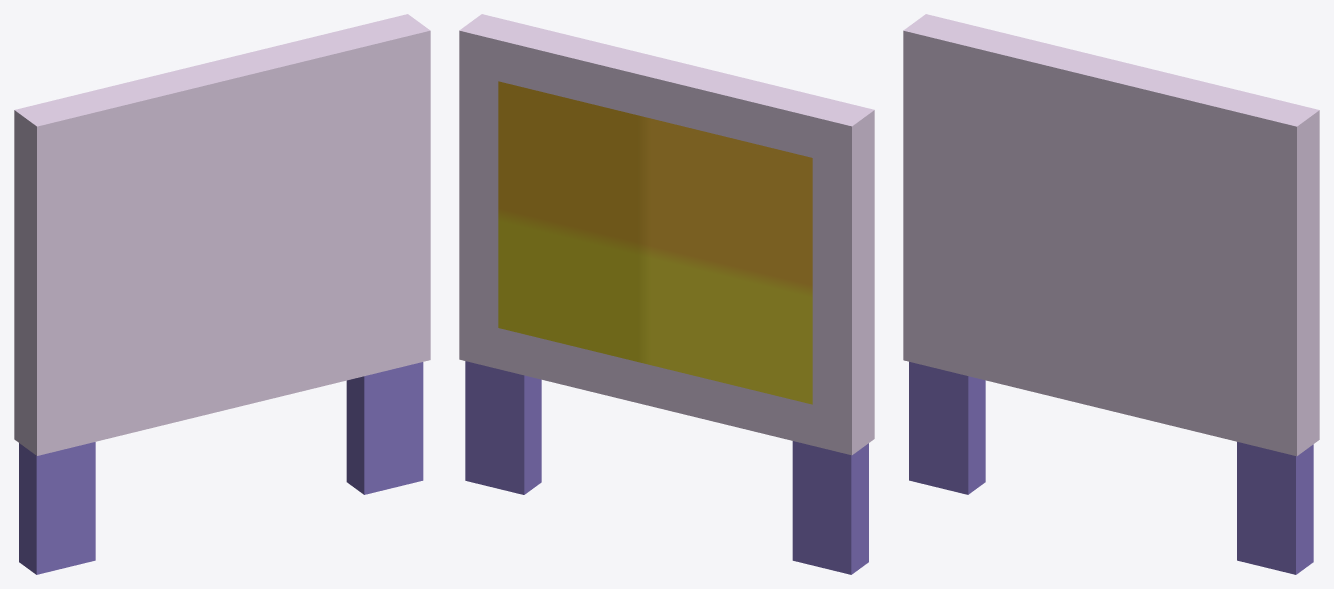
File: sign_purple.fbx
3 views of the same model, side by side, from view 1: azimuth 30°, elevation 25°; view 2: azimuth 150°, elevation 25°; view 3: azimuth 330°, elevation 25° (orthographic).
Parts seen in each view (by area): view 1: sign_purple; view 2: sign_purple; view 3: sign_purple.
Part boxes in pixels (<box>): sign_purple: <box>14,14,430,574</box>; sign_purple: <box>459,14,874,574</box>; sign_purple: <box>903,14,1319,574</box>.
Size of the model in its own units: 100 by 110 by 10.
